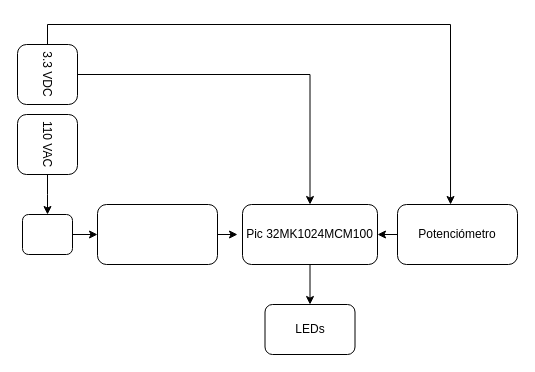
Image size: 535x372. Some labels were removed from this diagram. The shapes that lost their labels are listed below. From the top down, each one's box as (x1, y1, x2, y2) in pixels, then its label:
(22, 214, 72, 254): Pc
(96, 204, 218, 264): Programación
